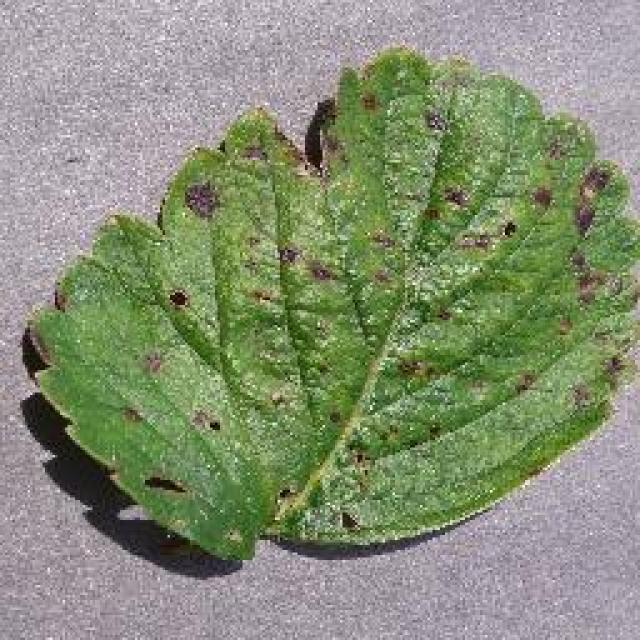Strawberry leaf scorch: (180, 165, 503, 518)
